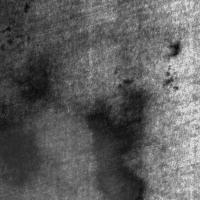patches: (0, 108, 130, 200), (81, 82, 149, 200), (1, 112, 40, 187), (14, 53, 53, 101)
